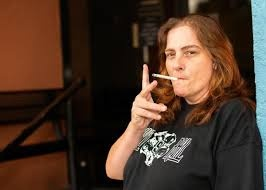sigaretta: (149, 69, 181, 83)
